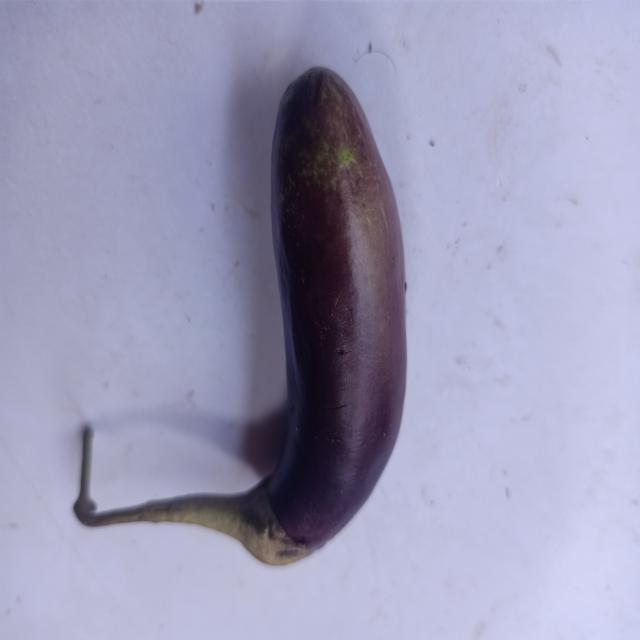Brinjal: (47, 26, 432, 601)
